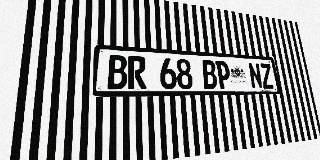6: (159, 57, 177, 89)
8: (176, 58, 193, 89)
B: (107, 55, 127, 89), (201, 60, 218, 89)
N: (248, 62, 263, 89)
P: (215, 61, 232, 89)
R: (128, 56, 147, 89)
Z: (259, 63, 274, 89)
